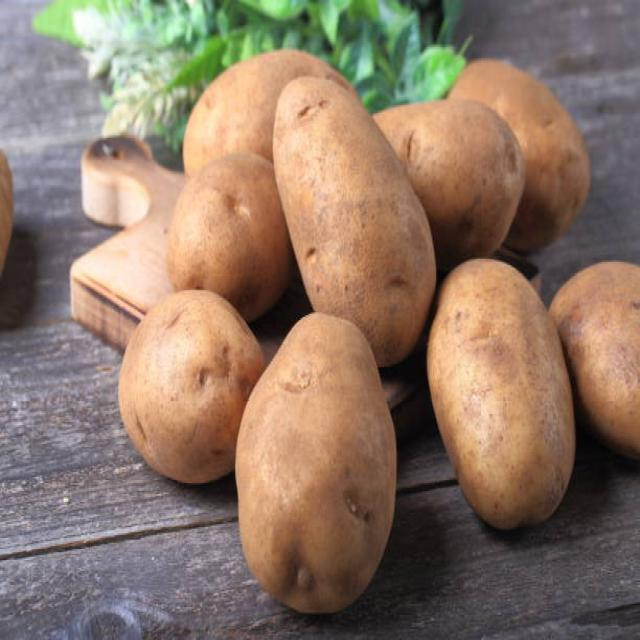Potato: (234, 310, 394, 619), (276, 78, 425, 346), (428, 256, 573, 528), (118, 285, 235, 485), (409, 89, 528, 265), (163, 152, 282, 296), (566, 246, 640, 463)
